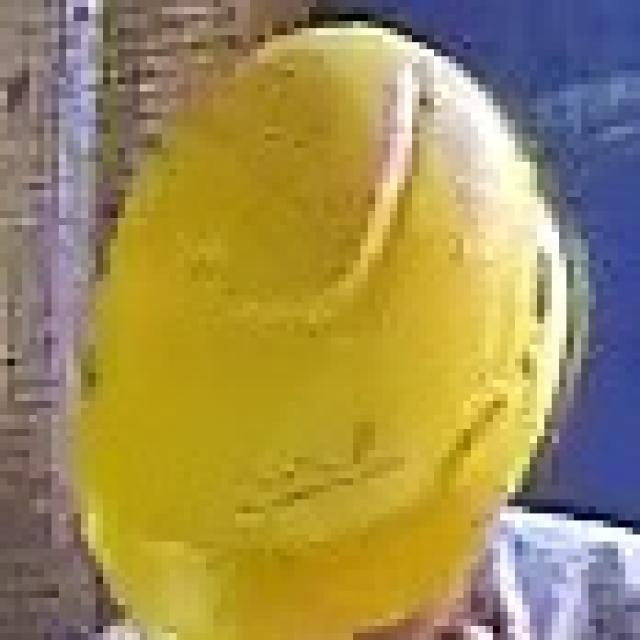yellow helmet: (61, 21, 579, 640)
